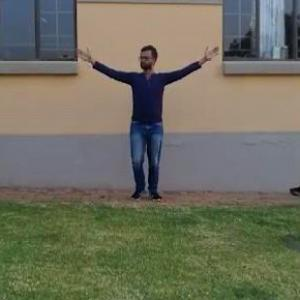takeoff: (69, 40, 213, 194)
